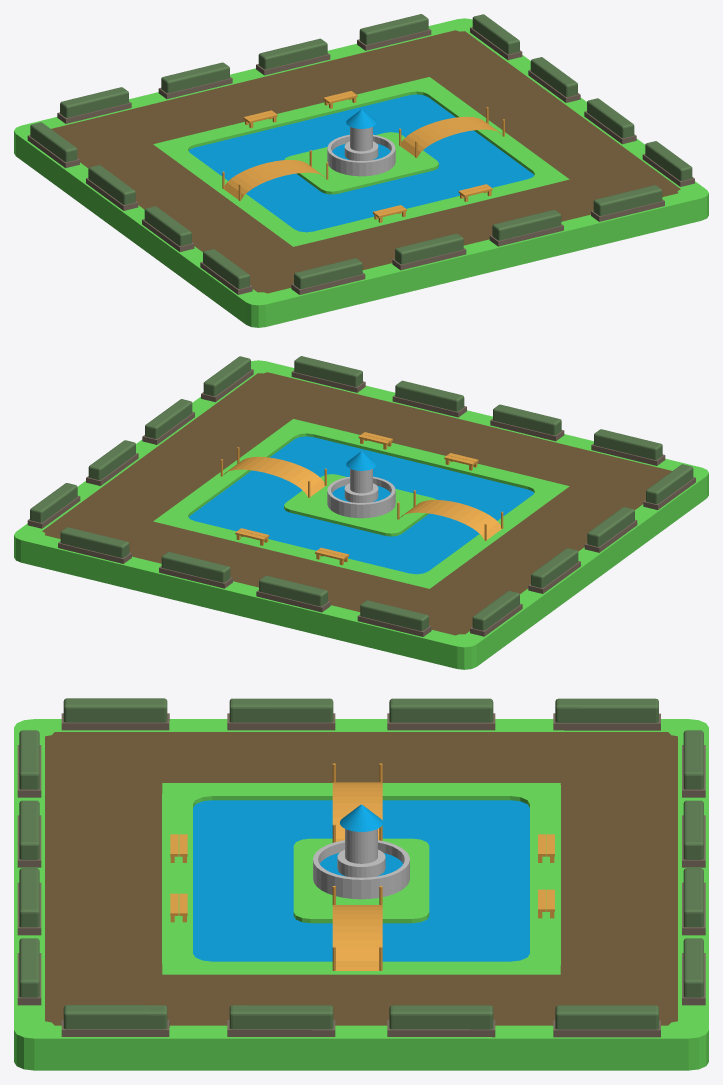
File: Parque.fbx
The picture shows the model from 3 angles, top to bottom: view 1: azimuth 30°, elevation 25°; view 2: azimuth 150°, elevation 25°; view 3: azimuth 270°, elevation 25°; orthographic projection. The views are drawn at different scales.
Parts seen in each view (by area): view 1: Cube.061, Cylinder, Cube.001, Cube.006, Cube.007, Cube, Cube.002, Cube.005, Cube.003, Cube.004, Cylinder.002, Cylinder.011 (+8 smaller); view 2: Cube.061, Cylinder, Cube.001, Cube.006, Cube.007, Cube.002, Cube.004, Cube, Cube.005, Cube.003, Cylinder.002, Cylinder.011 (+8 smaller); view 3: Cube.061, Cylinder, Cube.008, Cube.009, Cube.011, Cube.013, Cube.010, Cube.012, Cube.014, Cube.015, Cylinder.002, Cylinder.011 (+8 smaller).
Part boxes in pixels (box(x1,y1,x2,y2)): Cube.061: box(14, 18, 708, 327); Cylinder: box(327, 109, 395, 176); Cube.001: box(489, 210, 563, 246); Cube.006: box(256, 38, 330, 75); Cube.007: box(357, 14, 431, 50); Cube: box(591, 185, 664, 221); Cube.002: box(291, 258, 365, 294); Cube.005: box(57, 87, 131, 123); Cube.003: box(392, 233, 466, 270); Cube.004: box(158, 62, 232, 99); Cylinder.002: box(400, 116, 501, 156); Cylinder.011: box(224, 160, 326, 199); Cube.061: box(14, 360, 708, 669); Cylinder: box(327, 451, 395, 518); Cube.001: box(392, 380, 466, 417); Cube.006: box(159, 552, 232, 588); Cube.007: box(58, 527, 131, 563); Cube.002: box(591, 429, 665, 465); Cube.004: box(256, 575, 330, 612); Cube: box(291, 356, 365, 392); Cube.005: box(357, 600, 431, 636); Cube.003: box(490, 404, 564, 441); Cylinder.002: box(223, 456, 324, 497); Cylinder.011: box(399, 500, 501, 540); Cube.061: box(14, 719, 708, 1070); Cylinder: box(313, 804, 409, 899); Cube.008: box(61, 698, 169, 730); Cube.009: box(227, 698, 335, 730); Cube.011: box(387, 698, 495, 730); Cube.013: box(553, 1005, 660, 1037); Cube.010: box(553, 698, 660, 730); Cube.012: box(387, 1005, 495, 1037); Cube.014: box(227, 1005, 335, 1036); Cube.015: box(61, 1005, 169, 1036); Cylinder.002: box(332, 905, 382, 970); Cylinder.011: box(332, 782, 382, 841).
Bounding box in the file's own units: 84.64 × 13.12 × 77.8.
